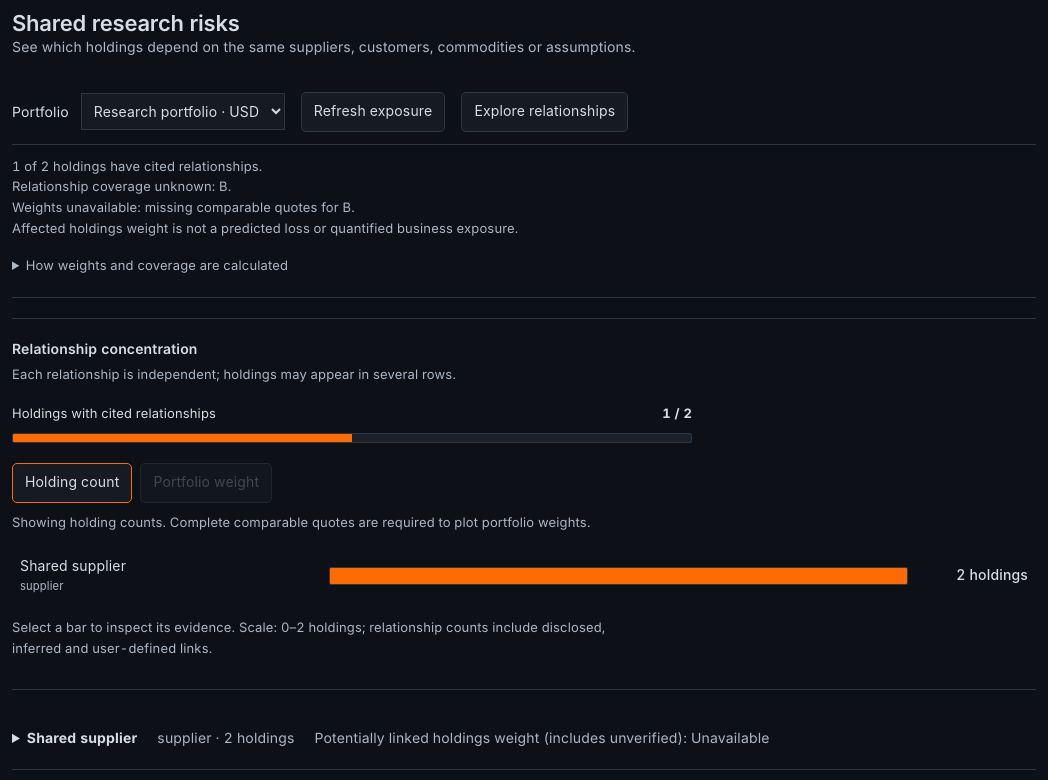
preserves coverage when exploring relationships
This screenshot has width=1048, height=780.
Expected: the text "Shared supplier" is shown, [27, 730, 137, 747]
Click the button "Explore relationships". click: {"x": 545, "y": 112}
box: [461, 92, 628, 132]
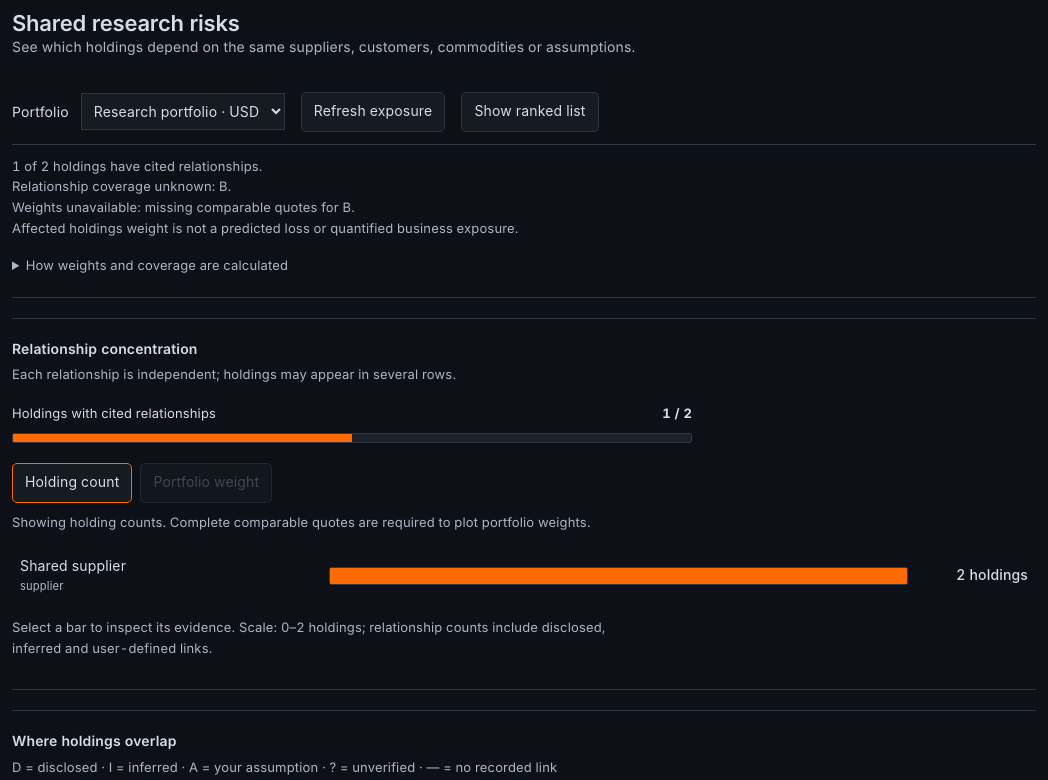
Expected: the text "Relationship coverage unknown: B." is shown, [12, 180, 231, 196]
Expected: the button "Show ranked list" is pressed, [461, 92, 599, 132]
